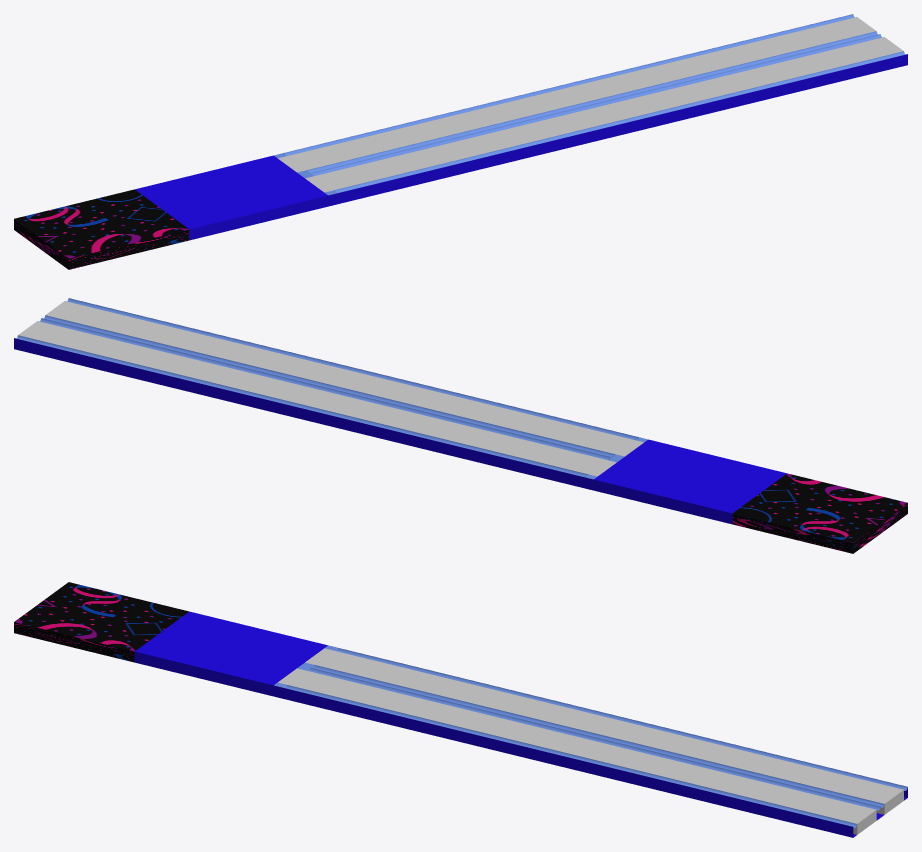
Rendered from alleyfixed.fbx.
3 views of the same model, one above another, from view 1: azimuth 30°, elevation 25°; view 2: azimuth 150°, elevation 25°; view 3: azimuth 330°, elevation 25° (orthographic).
Parts seen in each view (by area): view 1: Cube, Cube.002, Cube.001, Cube.003, Cylinder.002, Cylinder, Cylinder.003, Cylinder.001; view 2: Cube, Cube.002, Cube.001, Cube.003, Cylinder, Cylinder.002, Cylinder.001, Cylinder.003; view 3: Cube, Cube.001, Cube.002, Cube.003, Cylinder.002, Cylinder, Cylinder.003, Cylinder.001.
Boxes of the visible parts, left/top/right/bottom form: Cube: left=135, top=54, right=907, bottom=240; Cube.002: left=305, top=37, right=903, bottom=192; Cube.001: left=278, top=17, right=876, bottom=172; Cube.003: left=14, top=189, right=189, bottom=269; Cylinder.002: left=324, top=51, right=907, bottom=195; Cylinder: left=274, top=14, right=856, bottom=158; Cylinder.003: left=301, top=34, right=883, bottom=178; Cylinder.001: left=297, top=31, right=878, bottom=175; Cube: left=14, top=338, right=786, bottom=524; Cube.002: left=45, top=301, right=643, bottom=456; Cube.001: left=18, top=321, right=616, bottom=476; Cube.003: left=732, top=473, right=907, bottom=553; Cylinder: left=14, top=335, right=597, bottom=479; Cylinder.002: left=65, top=298, right=647, bottom=442; Cylinder.001: left=38, top=318, right=620, bottom=462; Cylinder.003: left=43, top=315, right=624, bottom=459; Cube: left=134, top=611, right=907, bottom=837; Cube.001: left=305, top=648, right=903, bottom=814; Cube.002: left=278, top=668, right=876, bottom=834; Cube.003: left=14, top=582, right=188, bottom=662; Cylinder.002: left=274, top=682, right=857, bottom=828; Cylinder: left=325, top=645, right=907, bottom=790; Cylinder.003: left=297, top=665, right=880, bottom=810; Cylinder.001: left=301, top=662, right=884, bottom=808.
Bounding box in the file's own units: 2780 × 35.15 × 314.
